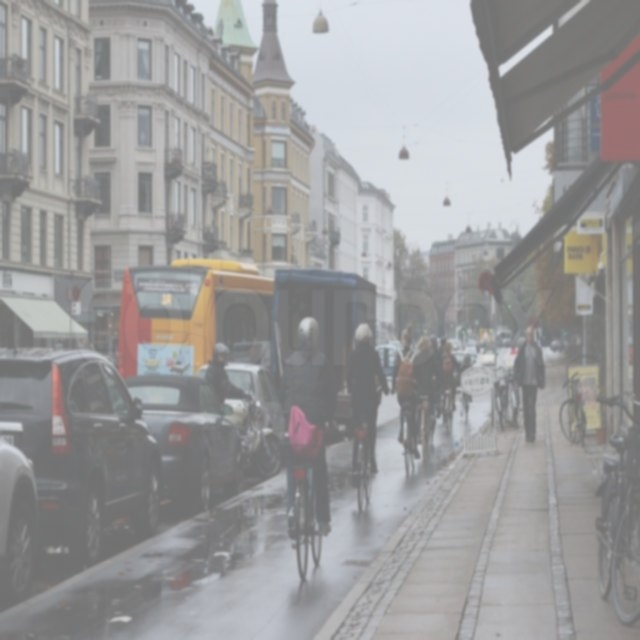pessoa: (270, 310, 334, 543), (344, 322, 392, 476), (386, 322, 426, 462), (508, 322, 546, 444), (410, 332, 445, 440), (203, 340, 254, 408), (440, 338, 462, 416), (434, 334, 448, 421), (458, 353, 474, 420), (459, 352, 474, 376)
